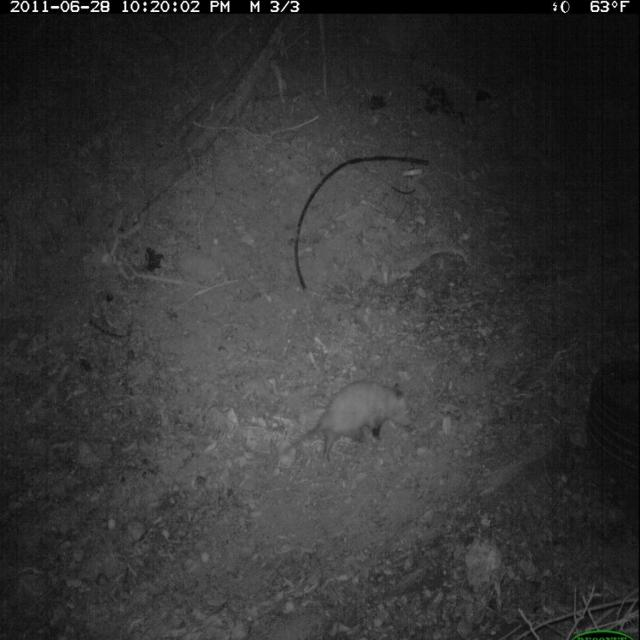opossum: (263, 377, 419, 480)
